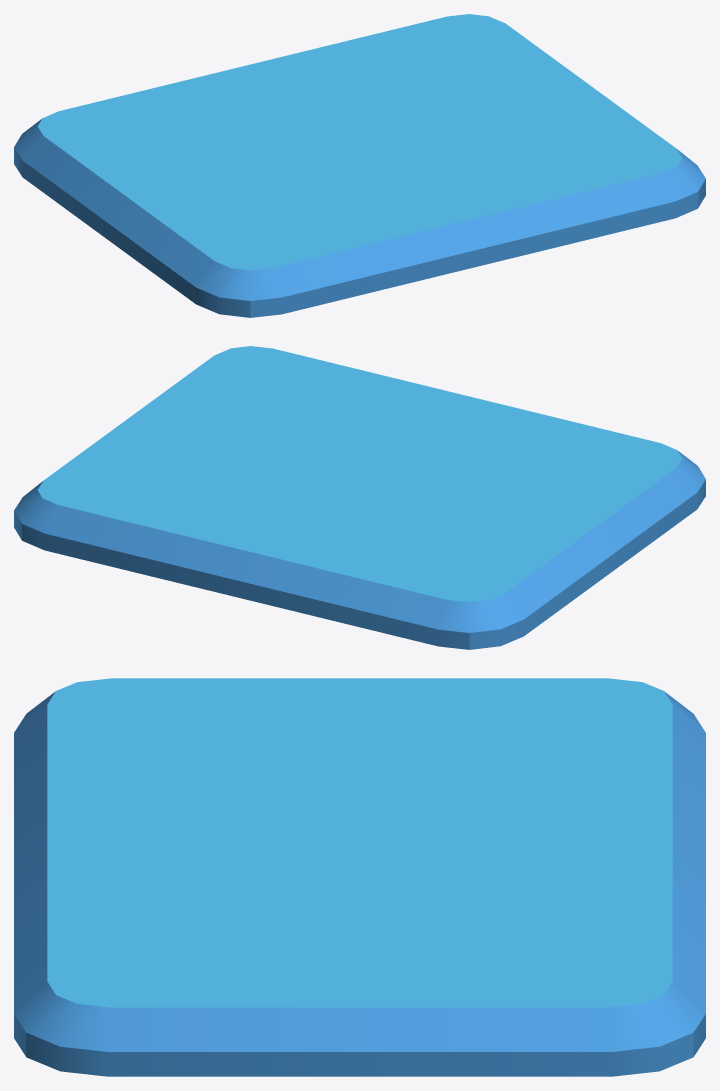
Rendered from Gates.fbx.
The picture shows the model from 3 angles, top to bottom: view 1: azimuth 30°, elevation 25°; view 2: azimuth 150°, elevation 25°; view 3: azimuth 270°, elevation 25°; orthographic projection. The views are drawn at different scales.
Visible parts, largest first — view 1: Stairs.001; view 2: Stairs.001; view 3: Stairs.001.
Boxes of the visible parts, x1,y1,x2,y2 form: Stairs.001: (14, 14, 705, 317); Stairs.001: (14, 346, 705, 649); Stairs.001: (14, 678, 705, 1076).
Bounding box in the file's own units: 2.06 × 0.1478 × 1.69.
